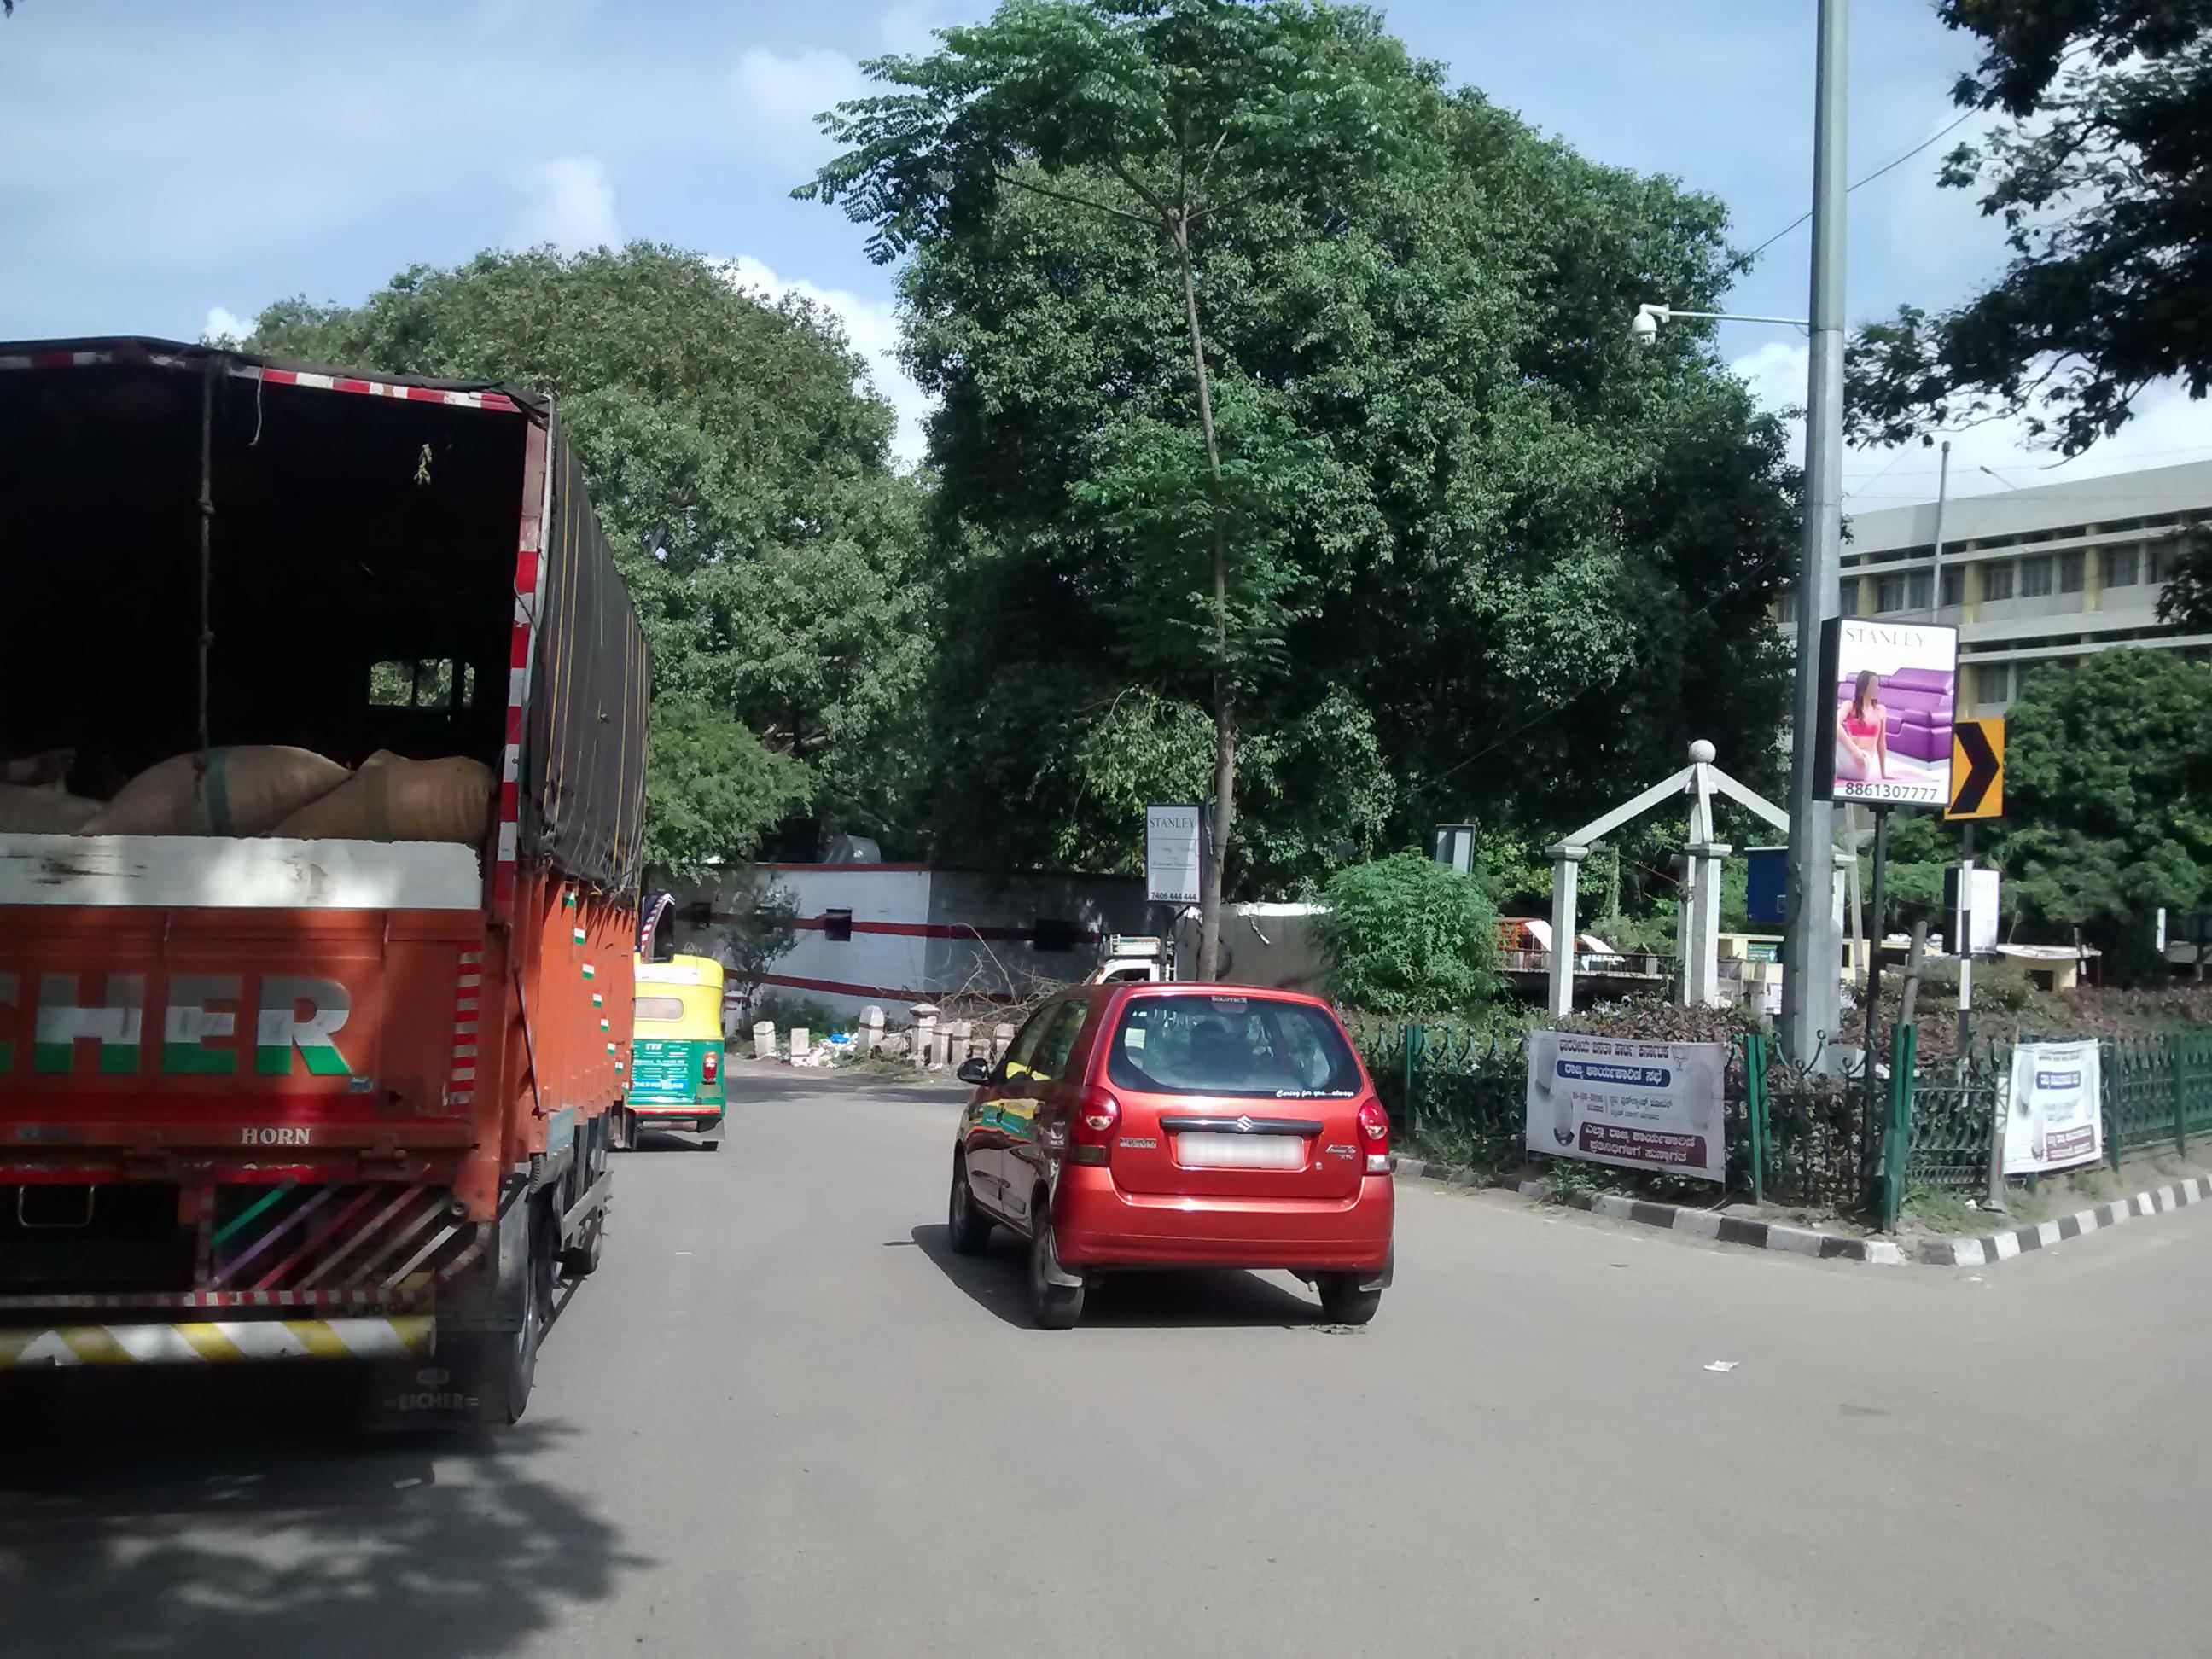vinyl banner: (1507, 1002, 1733, 1183), (1987, 1026, 2125, 1178)
